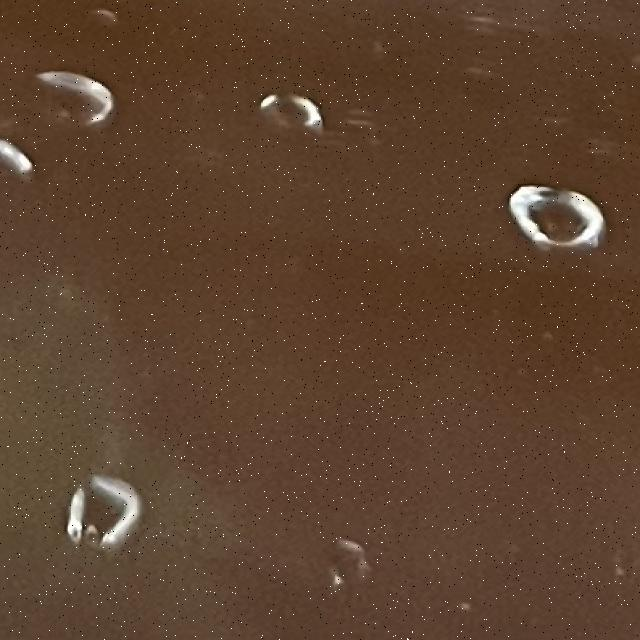raindrop: (490, 160, 627, 260), (62, 471, 144, 580), (7, 64, 138, 132), (303, 504, 395, 592), (238, 89, 346, 156), (0, 120, 55, 194)
